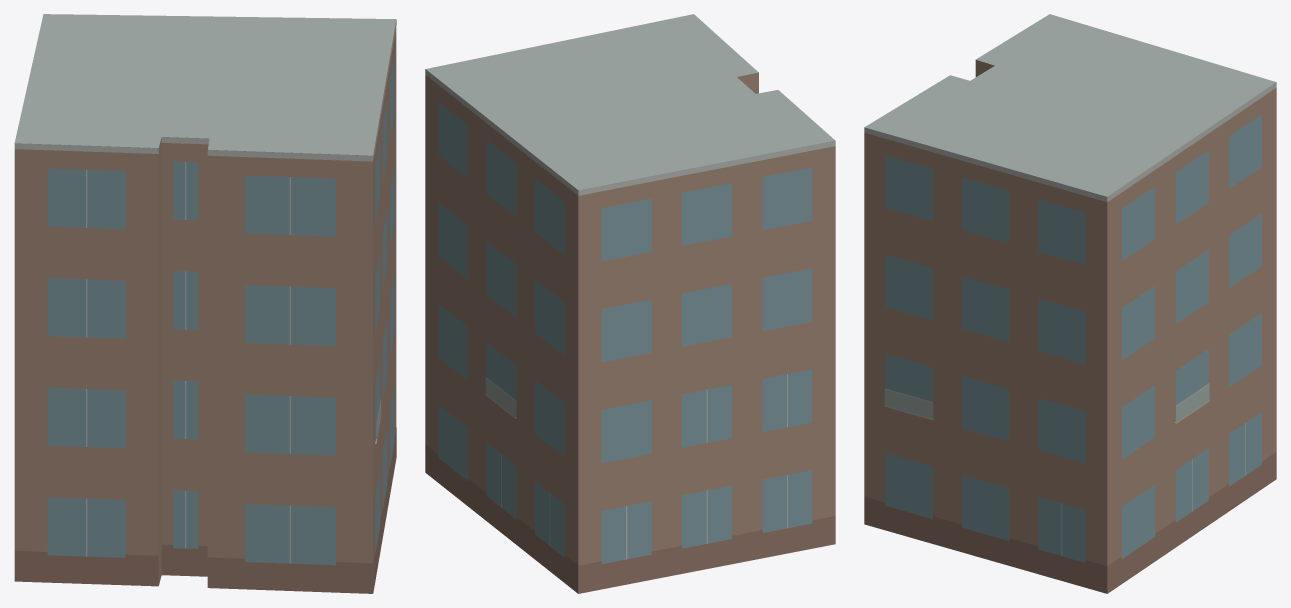
The model's file is survey-upis-32895066.glb.
3 renders of one model, left to right at view 1: azimuth 30°, elevation 25°; view 2: azimuth 150°, elevation 25°; view 3: azimuth 270°, elevation 25°, orthographic. The views are drawn at different scales.
Parts seen in each view (by area): view 1: survey-upis-32895066.tmp; view 2: survey-upis-32895066.tmp; view 3: survey-upis-32895066.tmp.
Boxes of the visible parts, <box> form: survey-upis-32895066.tmp: <box>14,14,396,593</box>; survey-upis-32895066.tmp: <box>425,14,835,593</box>; survey-upis-32895066.tmp: <box>864,14,1276,593</box>.
Bounding box in the file's own units: 17.74 × 17.95 × 16.9.
